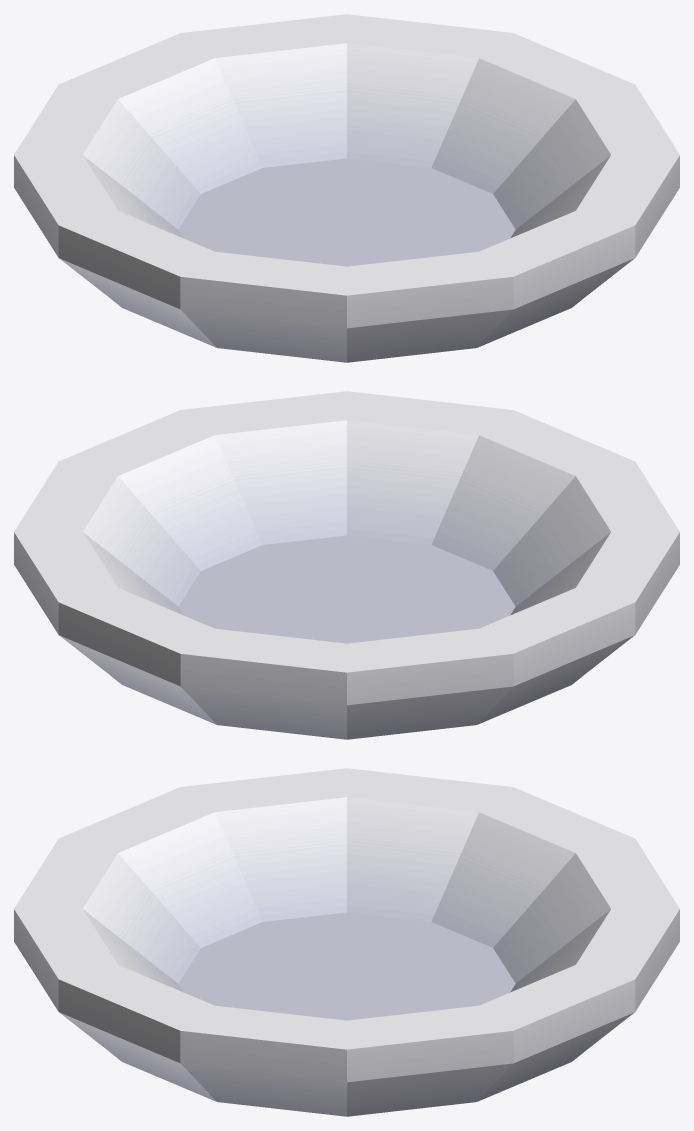
Rendered from PlateDeep.obj.
The picture shows the model from 3 angles, top to bottom: view 1: azimuth 30°, elevation 25°; view 2: azimuth 150°, elevation 25°; view 3: azimuth 270°, elevation 25°; orthographic projection.
Visible parts, largest first — view 1: plate-deep; view 2: plate-deep; view 3: plate-deep.
Boxes of the visible parts, <box> form: plate-deep: <box>14,14,679,362</box>; plate-deep: <box>14,391,679,739</box>; plate-deep: <box>14,768,679,1116</box>.
Bounding box in the file's own units: 0.8918 × 0.1449 × 0.8918.
Materials: 1 (1 with a texture image).
